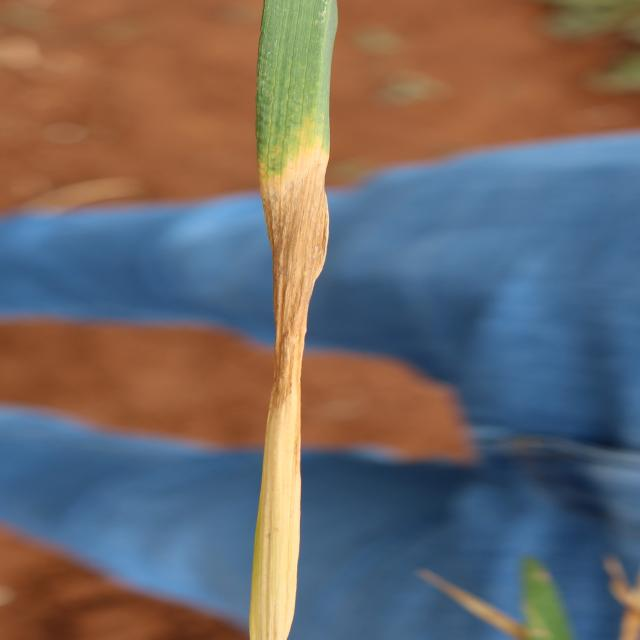Septoria: (246, 0, 340, 638)
